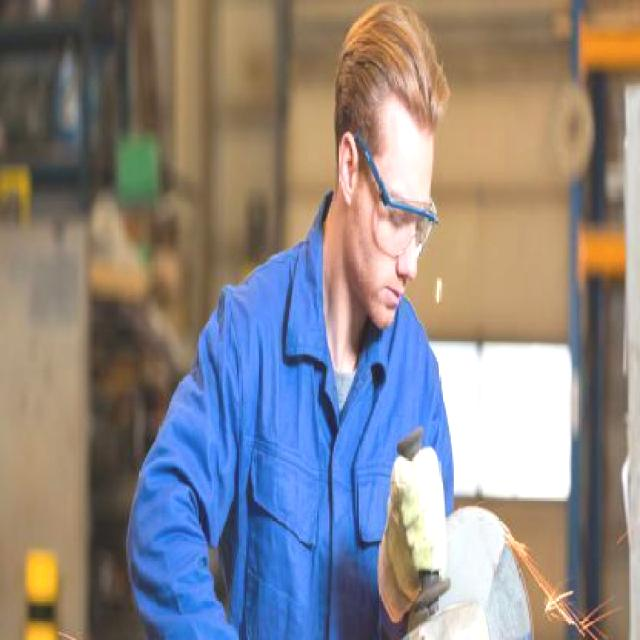face_nomask: (368, 193, 437, 318)
glasses: (361, 183, 437, 266)
hand_glove: (372, 434, 451, 620)
head_nohelmet: (348, 5, 450, 146)
person: (164, 7, 461, 640)
